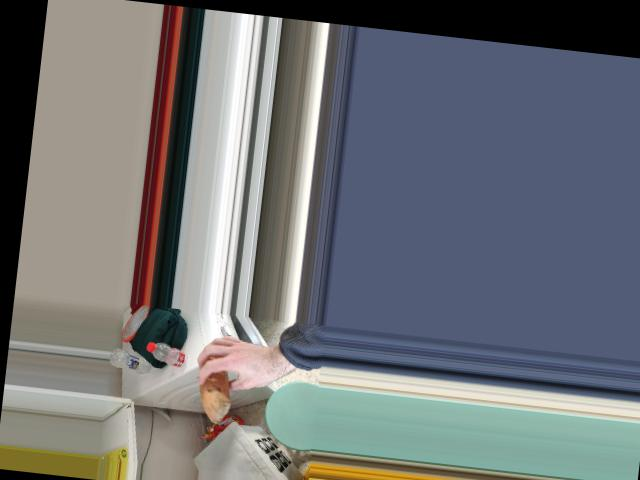sweet_potato: (201, 361, 228, 410)
